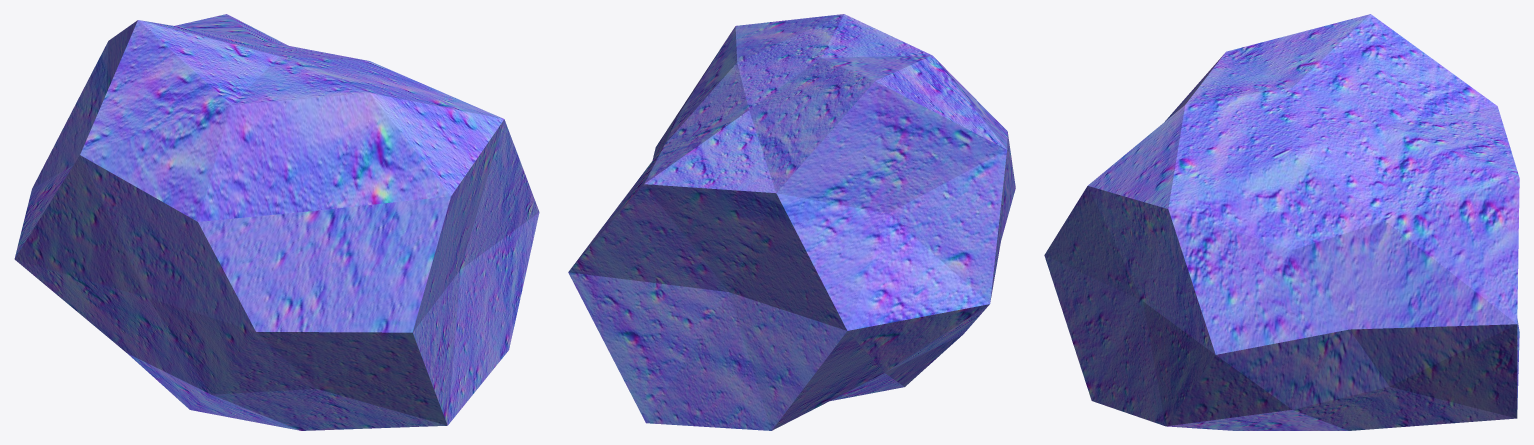
Rendered from smallasteroid16_LOD4.fbx.
3 views of the same model, side by side, from view 1: azimuth 30°, elevation 25°; view 2: azimuth 150°, elevation 25°; view 3: azimuth 270°, elevation 25° (orthographic). The views are drawn at different scales.
Visible parts, largest first — view 1: Icosphere; view 2: Icosphere; view 3: Icosphere.
Boxes of the visible parts, box(x1,y1,x2,y2) form: Icosphere: box(14, 14, 539, 430); Icosphere: box(568, 14, 1015, 430); Icosphere: box(1044, 14, 1519, 430).
Size of the model in its own units: 258 by 217 by 257.
